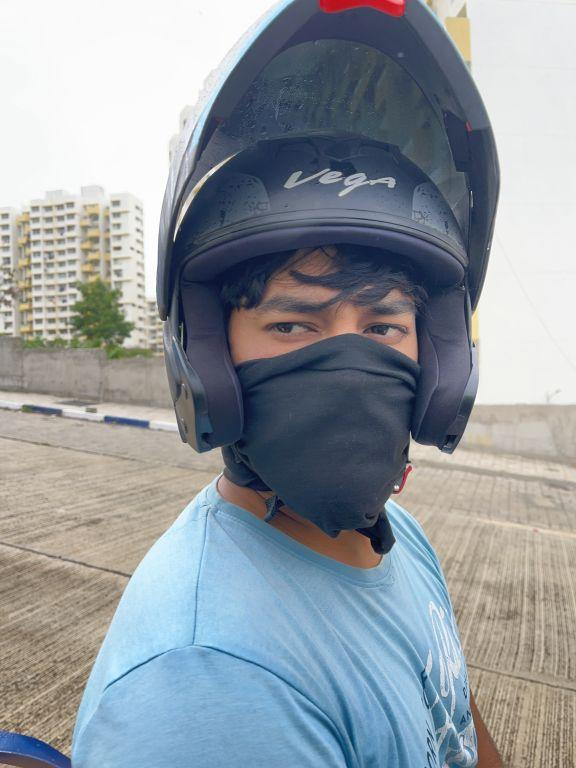helmet: (152, 0, 506, 567)
